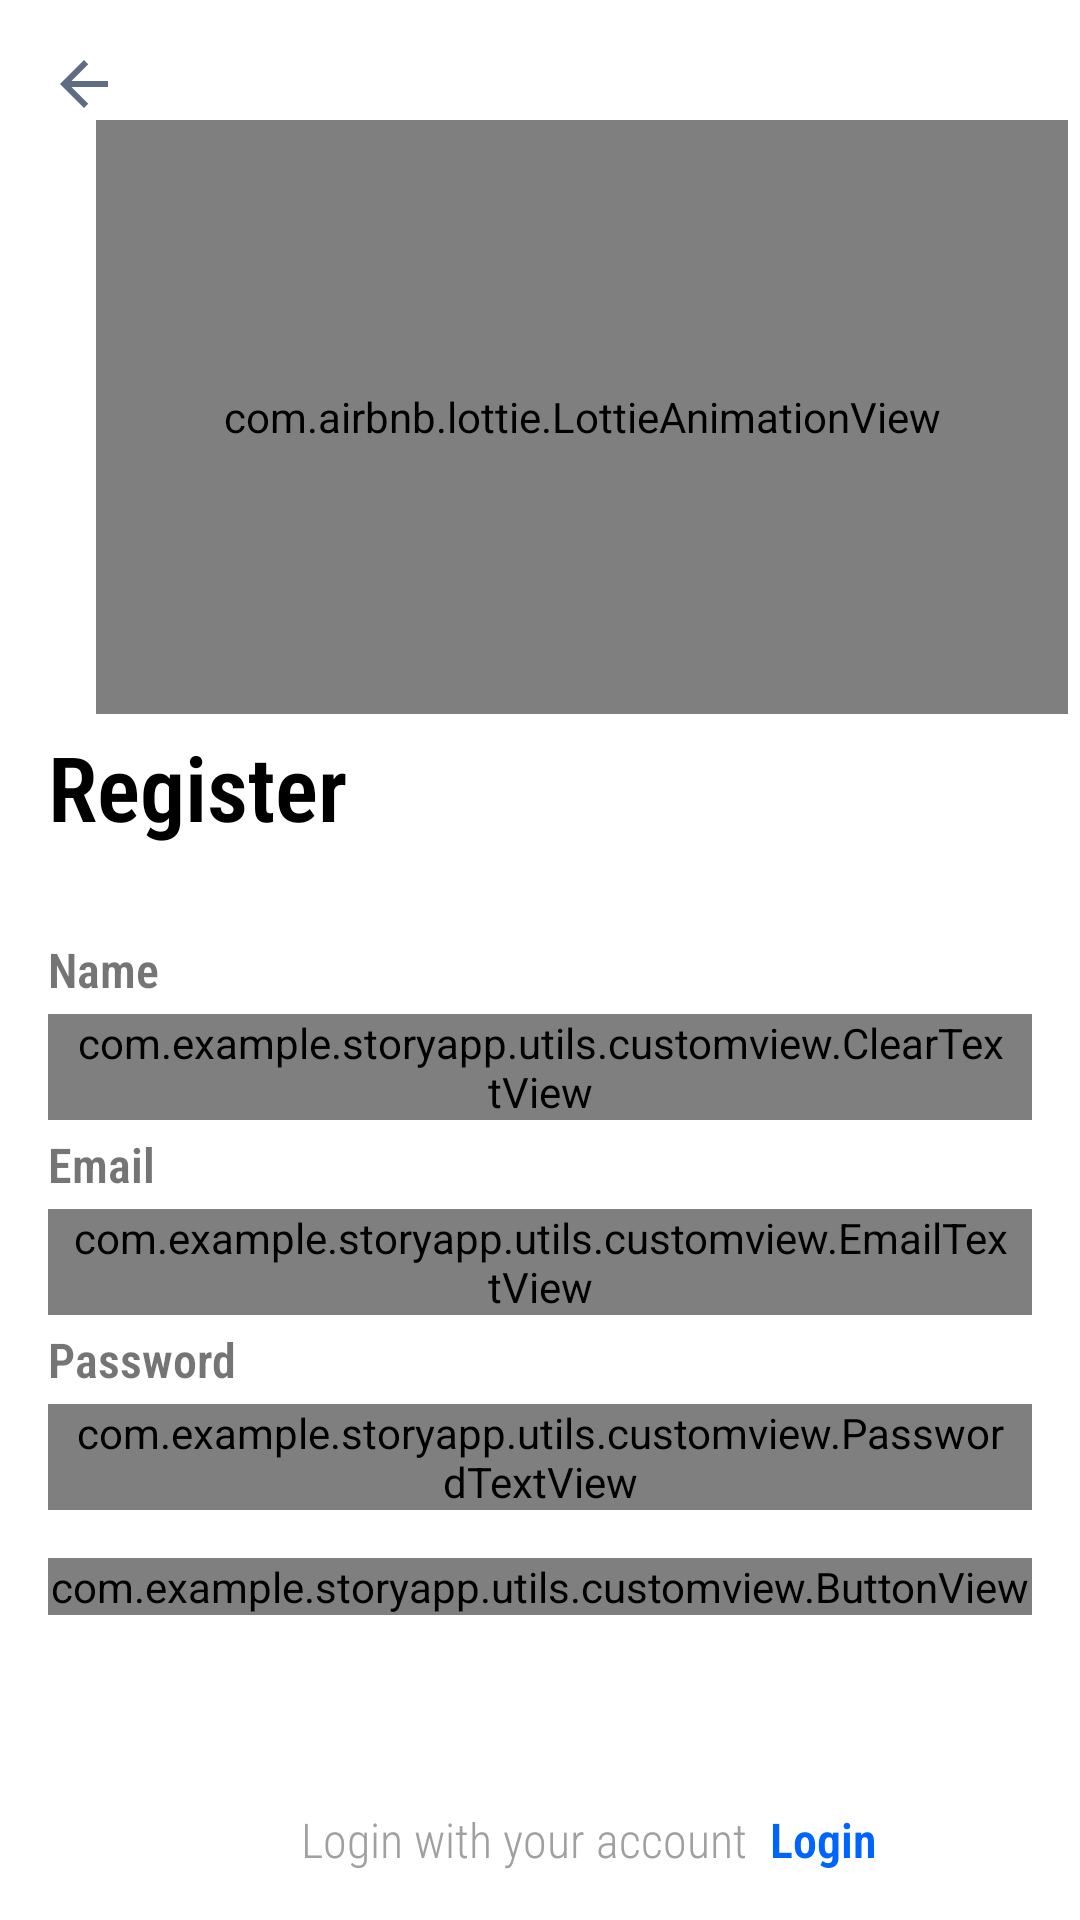

Where to tap for icons on this 1080 × 1920 app screen, as (x=x, y=y):
Image Arrow Back: (x=84, y=84)
